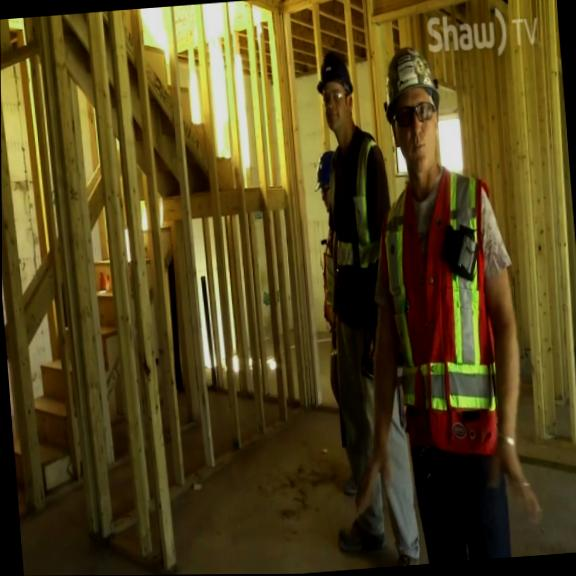safety_vest: (382, 172, 500, 419), (326, 137, 396, 272), (315, 211, 342, 322)
